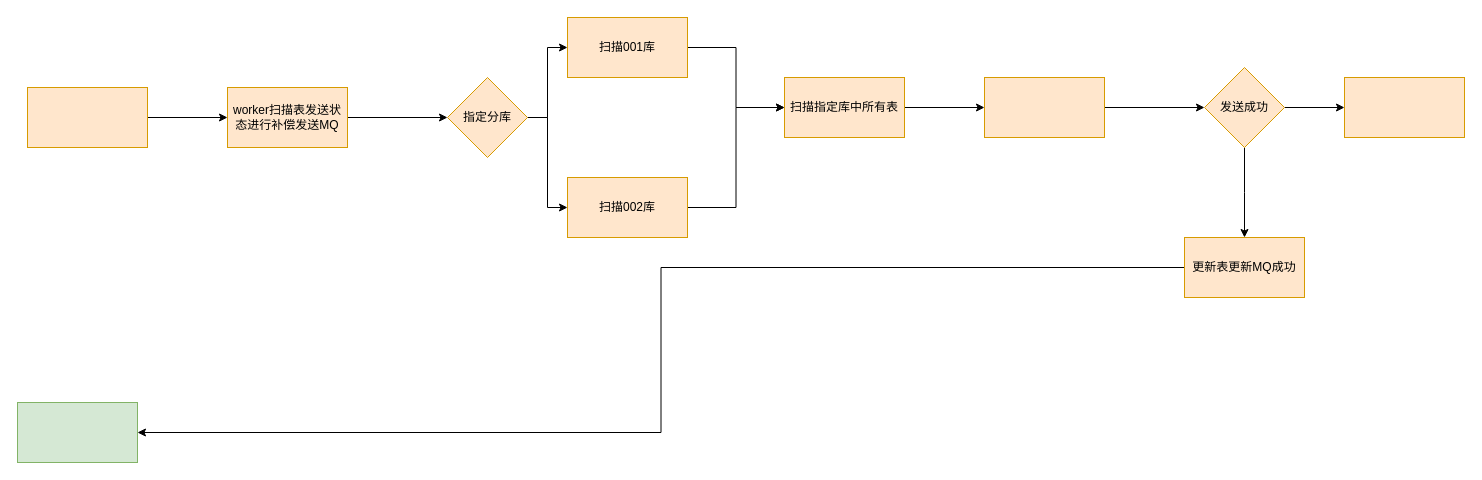
Image size: 1482x480. Some labels were removed from this diagram. Here are the shapes that lost their labels. From the top down, the centre of each, then its label:
(x=87, y=117): MQ状态更新失败
(x=1044, y=107): 发送MQ
(x=1404, y=107): 更新表、MQ更新失败
(x=77, y=432): 发货流程
